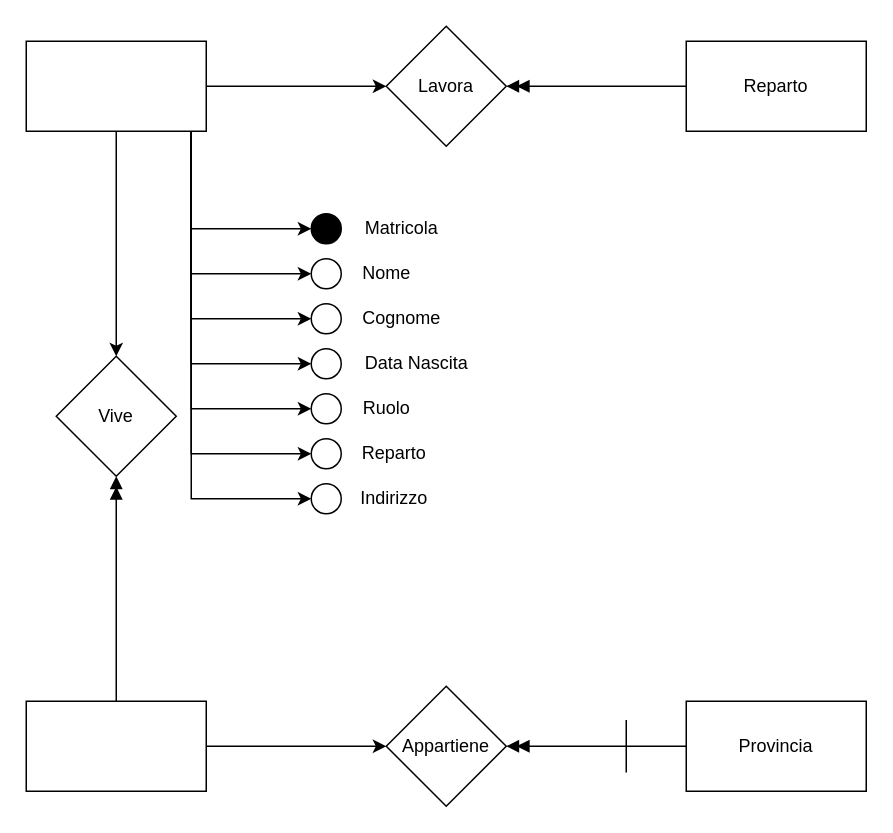
Image size: 893x833. Some labels were removed from this diagram. Here are the shapes that lost their labels. From the top down, the centre of each, then its label:
point 115,85: Impiegato
point 115,745: Città
